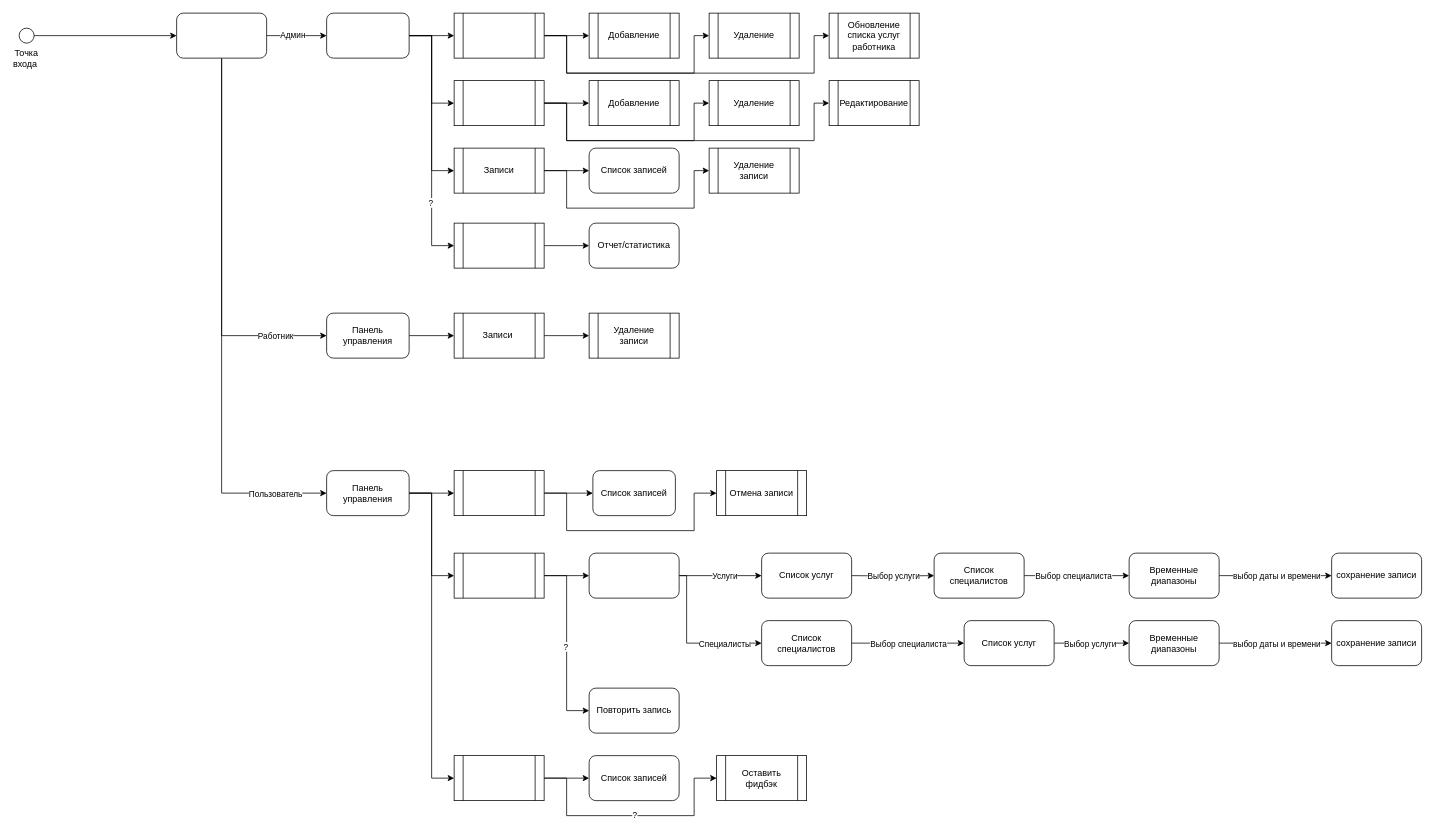
Some shapes in this 1435 by 835 pixel diagram are drawn without their labels. Here are the shapes that lost their labels. From the top down, the centre of each, then its label:
At point 221,35: "Определение роли пользователя".
At point 367,35: "Админ панель".
At point 498,35: "Управление работниками".
At point 498,103: "Управление услугами".
At point 498,245: "Статистика/отчетность".
At point 498,493: "Текущие записи".
At point 498,575: "Записаться".
At point 633,575: "Выбор".
At point 498,778: "История записей".
